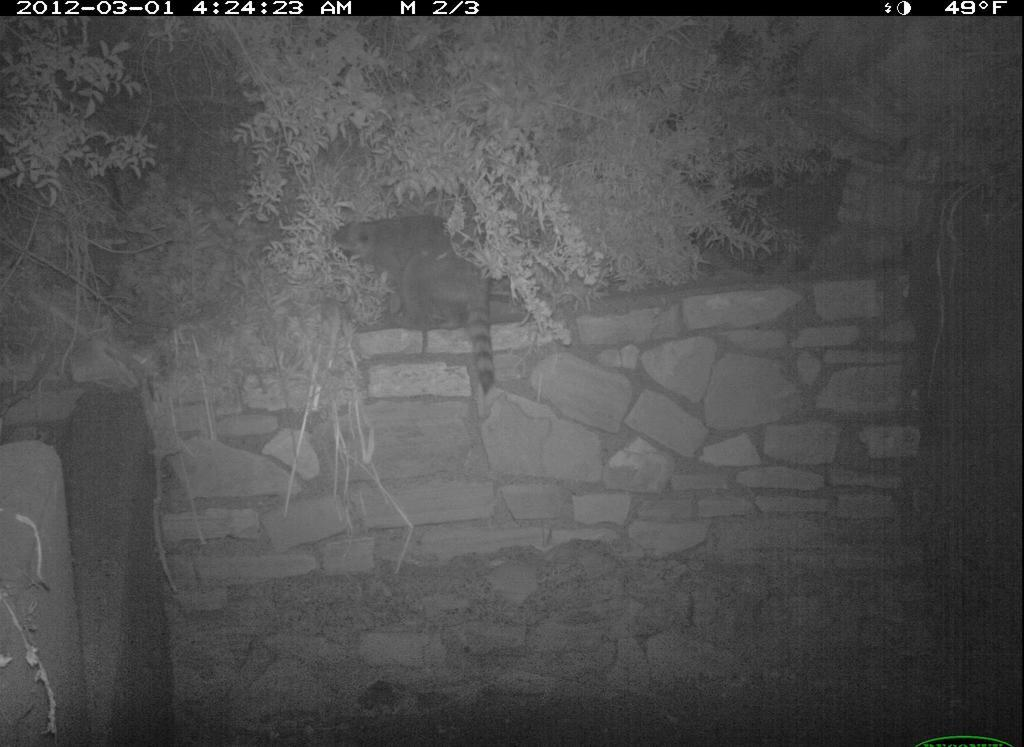raccoon: (324, 210, 510, 402)
